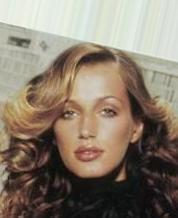face: (61, 99, 118, 164)
